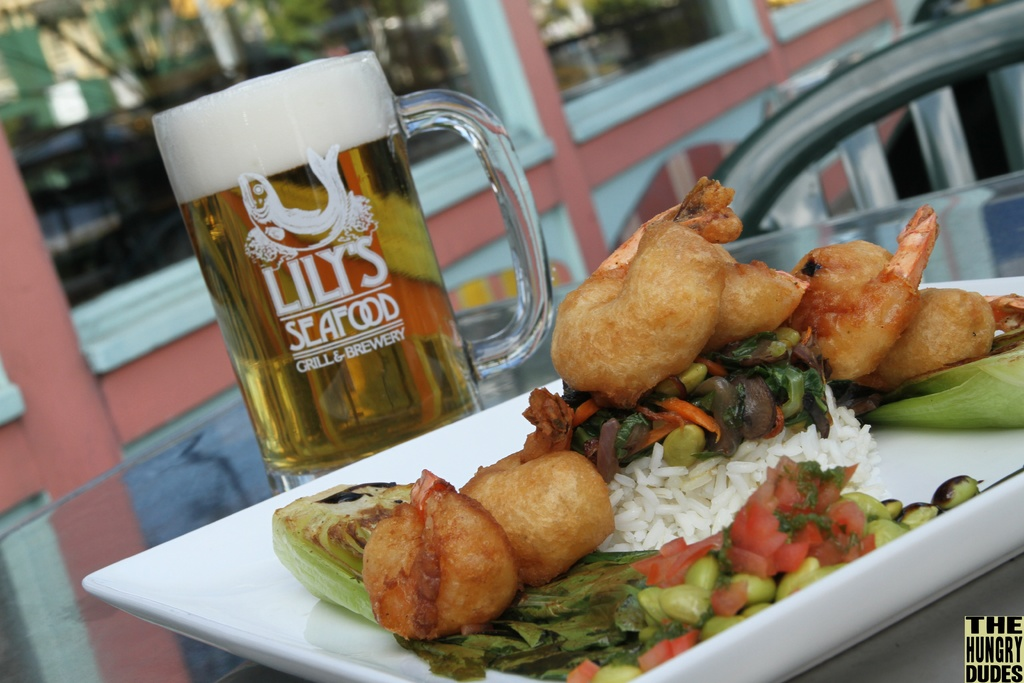Beer: (149, 51, 535, 502)
